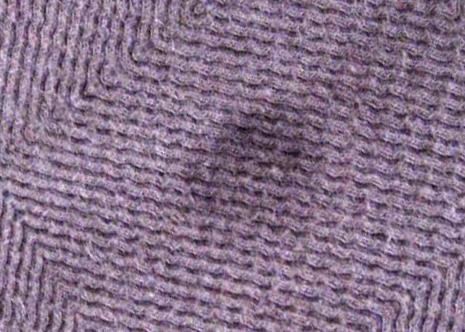stain: (183, 99, 338, 232)
